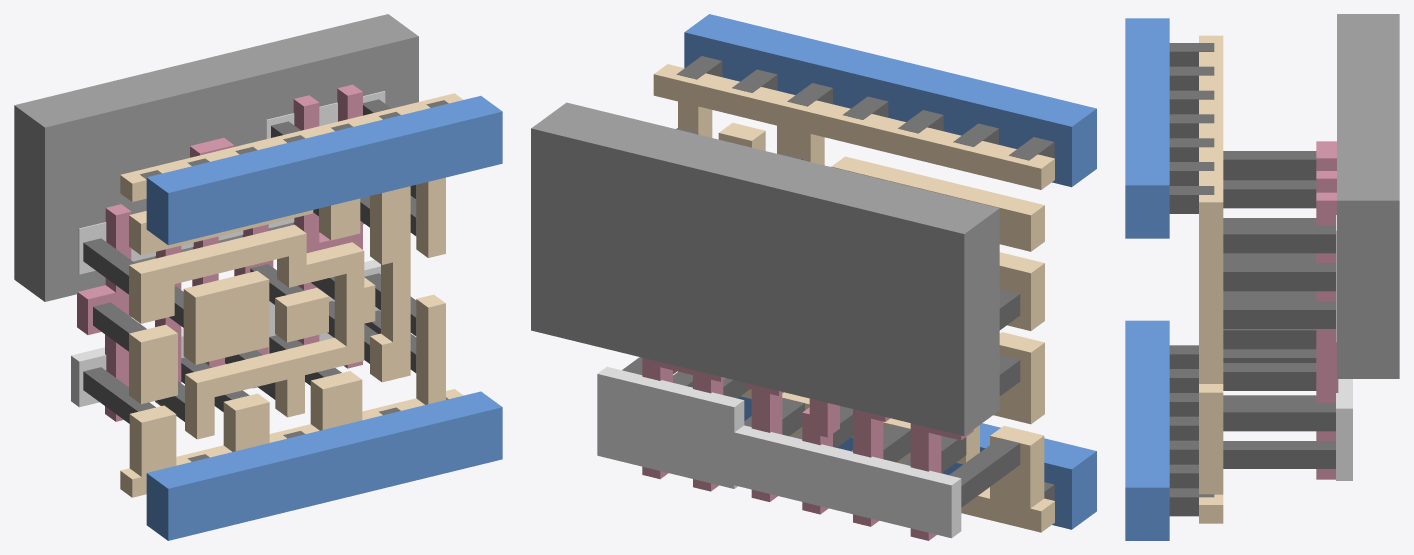
Rendered from sky130_fd_sc_hd__or4_2.gds.gltf.
The picture shows the model from 3 angles, left to right: view 1: azimuth 30°, elevation 25°; view 2: azimuth 150°, elevation 25°; view 3: azimuth 270°, elevation 25°; orthographic projection. The views are drawn at different scales.
Visible parts, largest first — view 1: sky130_fd_sc_hd__or4_2_li1, sky130_fd_sc_hd__or4_2_met1, sky130_fd_sc_hd__or4_2_nwell, sky130_fd_sc_hd__or4_2_licon, sky130_fd_sc_hd__or4_2_poly, sky130_fd_sc_hd__or4_2_diff, sky130_fd_sc_hd__or4_2_mcon; view 2: sky130_fd_sc_hd__or4_2_nwell, sky130_fd_sc_hd__or4_2_li1, sky130_fd_sc_hd__or4_2_diff, sky130_fd_sc_hd__or4_2_met1, sky130_fd_sc_hd__or4_2_poly, sky130_fd_sc_hd__or4_2_licon, sky130_fd_sc_hd__or4_2_mcon; view 3: sky130_fd_sc_hd__or4_2_licon, sky130_fd_sc_hd__or4_2_nwell, sky130_fd_sc_hd__or4_2_met1, sky130_fd_sc_hd__or4_2_mcon, sky130_fd_sc_hd__or4_2_li1, sky130_fd_sc_hd__or4_2_poly, sky130_fd_sc_hd__or4_2_diff.
Boxes of the visible parts, x1,y1,x2,y2 form: sky130_fd_sc_hd__or4_2_li1: [120, 93, 463, 497]; sky130_fd_sc_hd__or4_2_met1: [146, 96, 502, 540]; sky130_fd_sc_hd__or4_2_nwell: [14, 14, 418, 301]; sky130_fd_sc_hd__or4_2_licon: [83, 99, 416, 423]; sky130_fd_sc_hd__or4_2_poly: [77, 84, 362, 421]; sky130_fd_sc_hd__or4_2_diff: [71, 91, 385, 407]; sky130_fd_sc_hd__or4_2_mcon: [140, 100, 448, 461]; sky130_fd_sc_hd__or4_2_nwell: [531, 102, 999, 435]; sky130_fd_sc_hd__or4_2_li1: [653, 64, 1054, 532]; sky130_fd_sc_hd__or4_2_diff: [597, 366, 961, 538]; sky130_fd_sc_hd__or4_2_met1: [684, 14, 1096, 529]; sky130_fd_sc_hd__or4_2_poly: [642, 357, 973, 540]; sky130_fd_sc_hd__or4_2_licon: [622, 128, 1020, 507]; sky130_fd_sc_hd__or4_2_mcon: [676, 56, 1054, 500]; sky130_fd_sc_hd__or4_2_licon: [1223, 151, 1335, 468]; sky130_fd_sc_hd__or4_2_nwell: [1337, 14, 1399, 378]; sky130_fd_sc_hd__or4_2_met1: [1125, 18, 1169, 540]; sky130_fd_sc_hd__or4_2_mcon: [1169, 43, 1214, 516]; sky130_fd_sc_hd__or4_2_li1: [1199, 35, 1223, 523]; sky130_fd_sc_hd__or4_2_poly: [1316, 141, 1338, 479]; sky130_fd_sc_hd__or4_2_diff: [1336, 215, 1352, 480].
Bounding box in the file's own units: 3.6 × 3.2 × 2.24.
